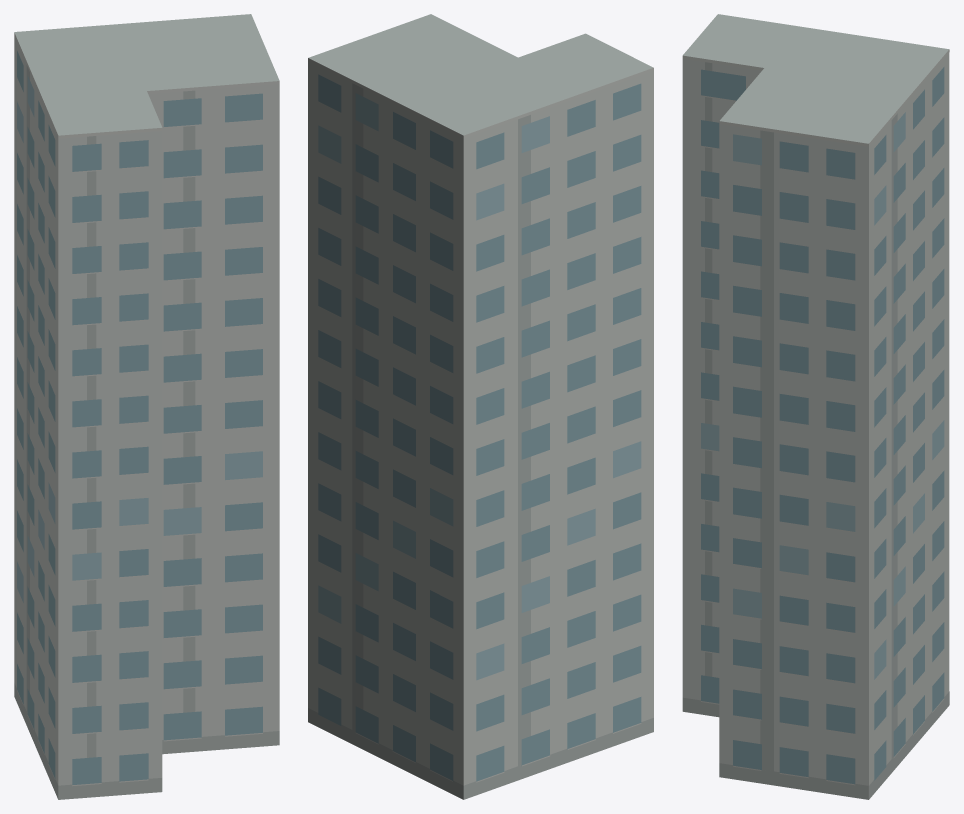
The model's file is residential-4df7c161-e379-444f-ba29-f3455c5e58f4.glb.
The picture shows the model from 3 angles, left to right: view 1: azimuth 30°, elevation 25°; view 2: azimuth 150°, elevation 25°; view 3: azimuth 270°, elevation 25°; orthographic projection.
Parts seen in each view (by area): view 1: residential-4df7c161-e379-444f-ba29-f3455c5e58f4.tmp; view 2: residential-4df7c161-e379-444f-ba29-f3455c5e58f4.tmp; view 3: residential-4df7c161-e379-444f-ba29-f3455c5e58f4.tmp.
Boxes of the visible parts, x1=… form: residential-4df7c161-e379-444f-ba29-f3455c5e58f4.tmp: x1=14, y1=14, x2=279, y2=799; residential-4df7c161-e379-444f-ba29-f3455c5e58f4.tmp: x1=308, y1=14, x2=653, y2=799; residential-4df7c161-e379-444f-ba29-f3455c5e58f4.tmp: x1=682, y1=14, x2=949, y2=799.
Bounding box in the file's own units: 21.65 × 51 × 18.81.
